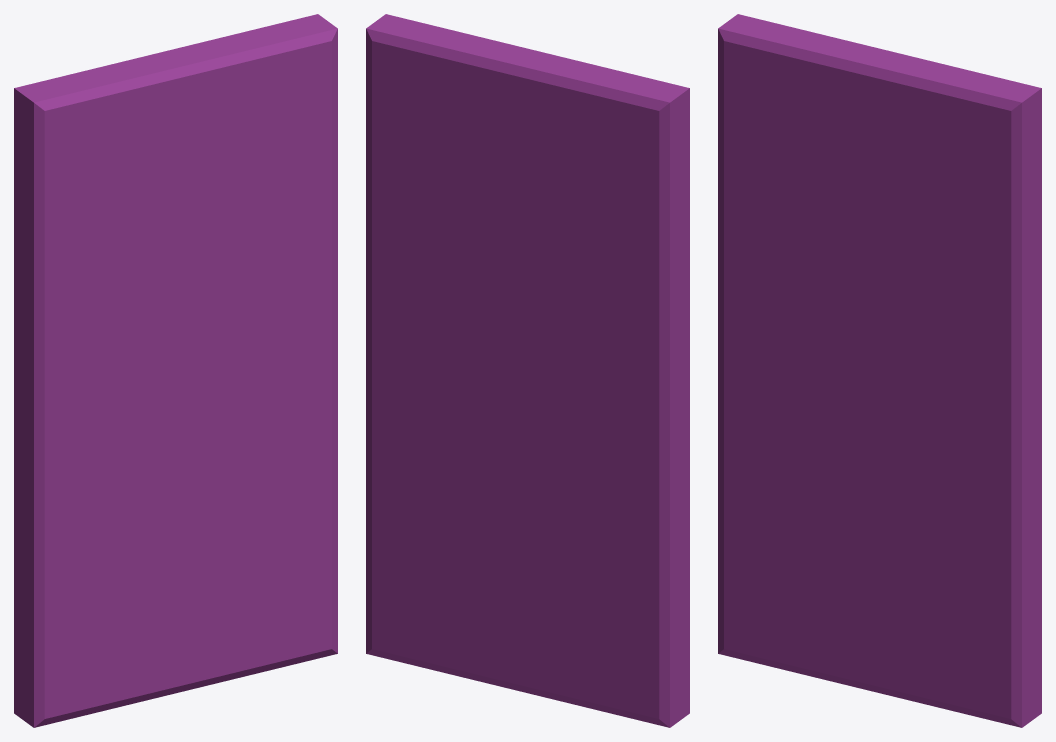
File: SM_HQdoor.fbx
The picture shows the model from 3 angles, left to right: view 1: azimuth 30°, elevation 25°; view 2: azimuth 150°, elevation 25°; view 3: azimuth 330°, elevation 25°; orthographic projection.
Visible parts, largest first — view 1: SM_HQdoor; view 2: SM_HQdoor; view 3: SM_HQdoor.
Part boxes in pixels (x1,y1,x2,y2): SM_HQdoor: [14, 14, 337, 727]; SM_HQdoor: [366, 14, 689, 727]; SM_HQdoor: [718, 14, 1041, 727].
Size of the model in its own units: 214 by 421 by 30.23.
